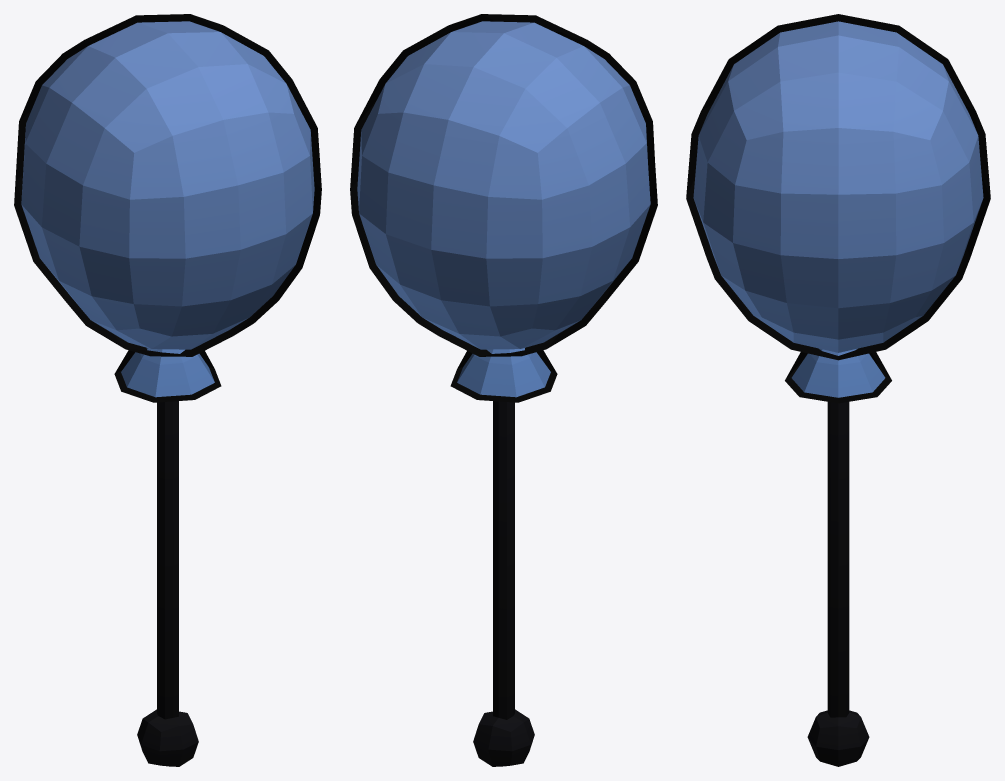
The model's file is item_balloon_blue.fbx.
3 renders of one model, left to right at view 1: azimuth 30°, elevation 25°; view 2: azimuth 150°, elevation 25°; view 3: azimuth 270°, elevation 25°, orthographic.
Parts seen in each view (by area): view 1: Balloon, BalloonThread; view 2: Balloon, BalloonThread; view 3: Balloon, BalloonThread.
Boxes of the visible parts, x1,y1,x2,y2 form: Balloon: [14, 14, 321, 402]; BalloonThread: [137, 401, 198, 766]; Balloon: [350, 14, 657, 402]; BalloonThread: [473, 401, 534, 766]; Balloon: [686, 14, 990, 403]; BalloonThread: [807, 402, 869, 766].
Size of the model in its own units: 82.56 by 220 by 82.56.
